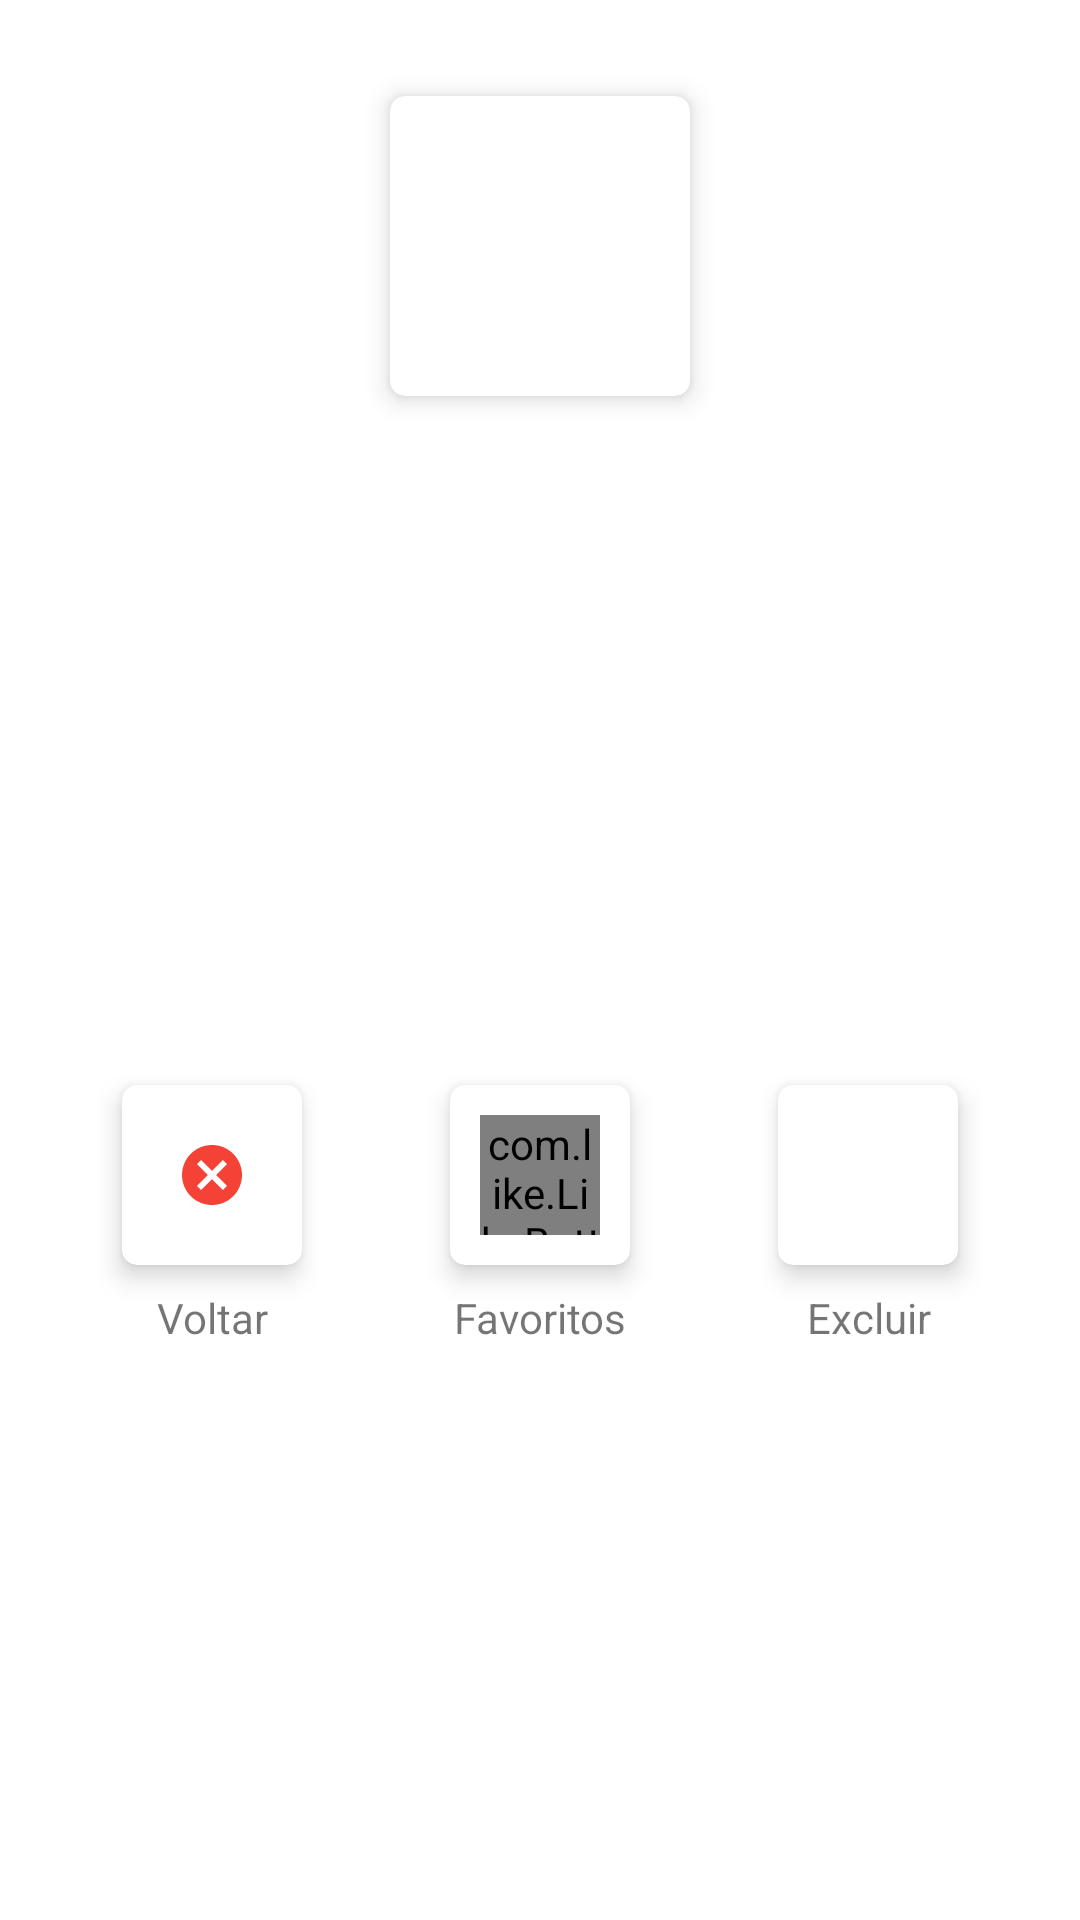

Where to tap for icons on this 1080x1920 app screen, as [x,y]:
cancelar: [212,1175]
